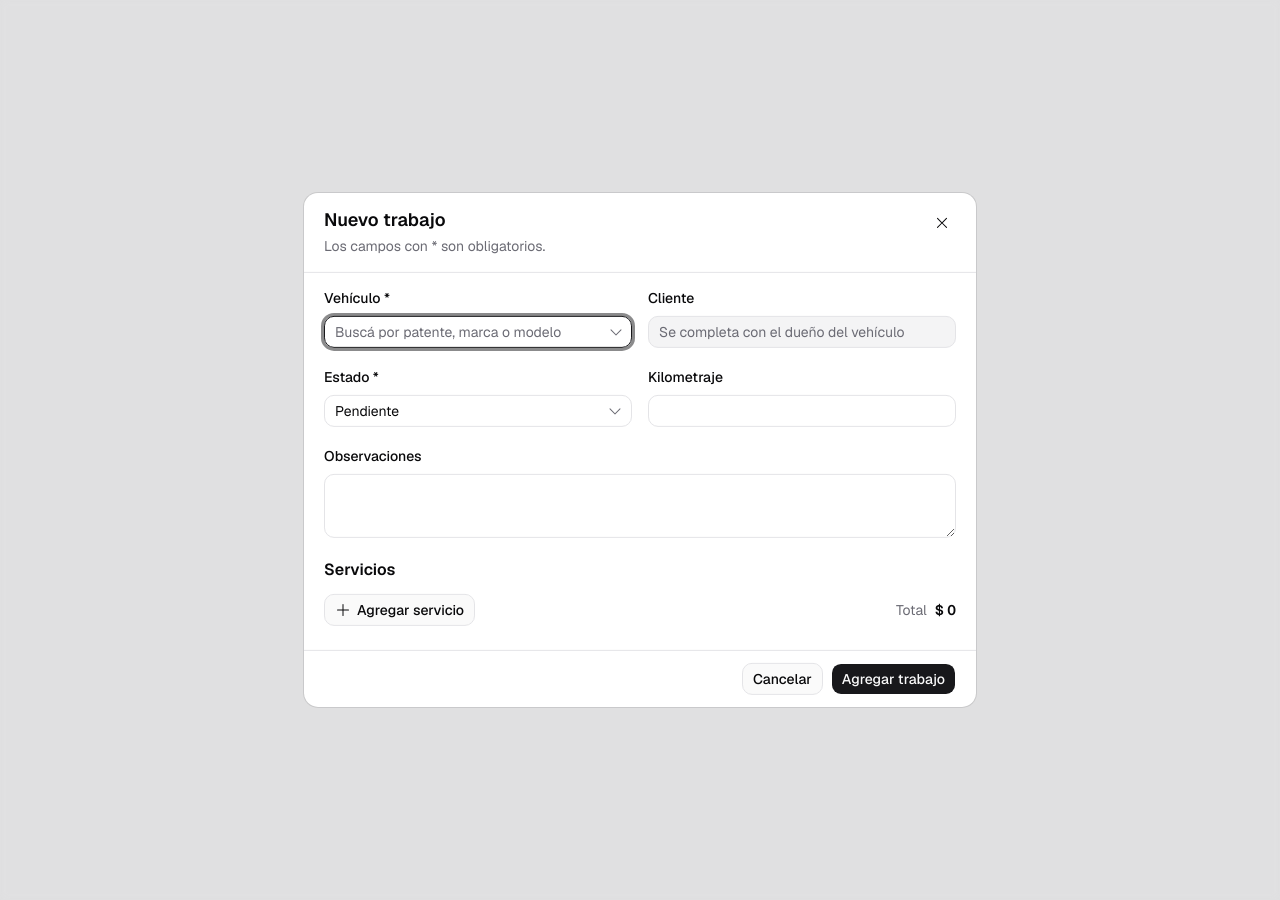
Test: new job form › vehicle › rejects text that matches no vehicle
The width and height of the screenshot is (1280, 900).
Step 1. Type "zzz" into the dropdown labelled "Vehículo *" → (464, 332), box [325, 316, 604, 348]
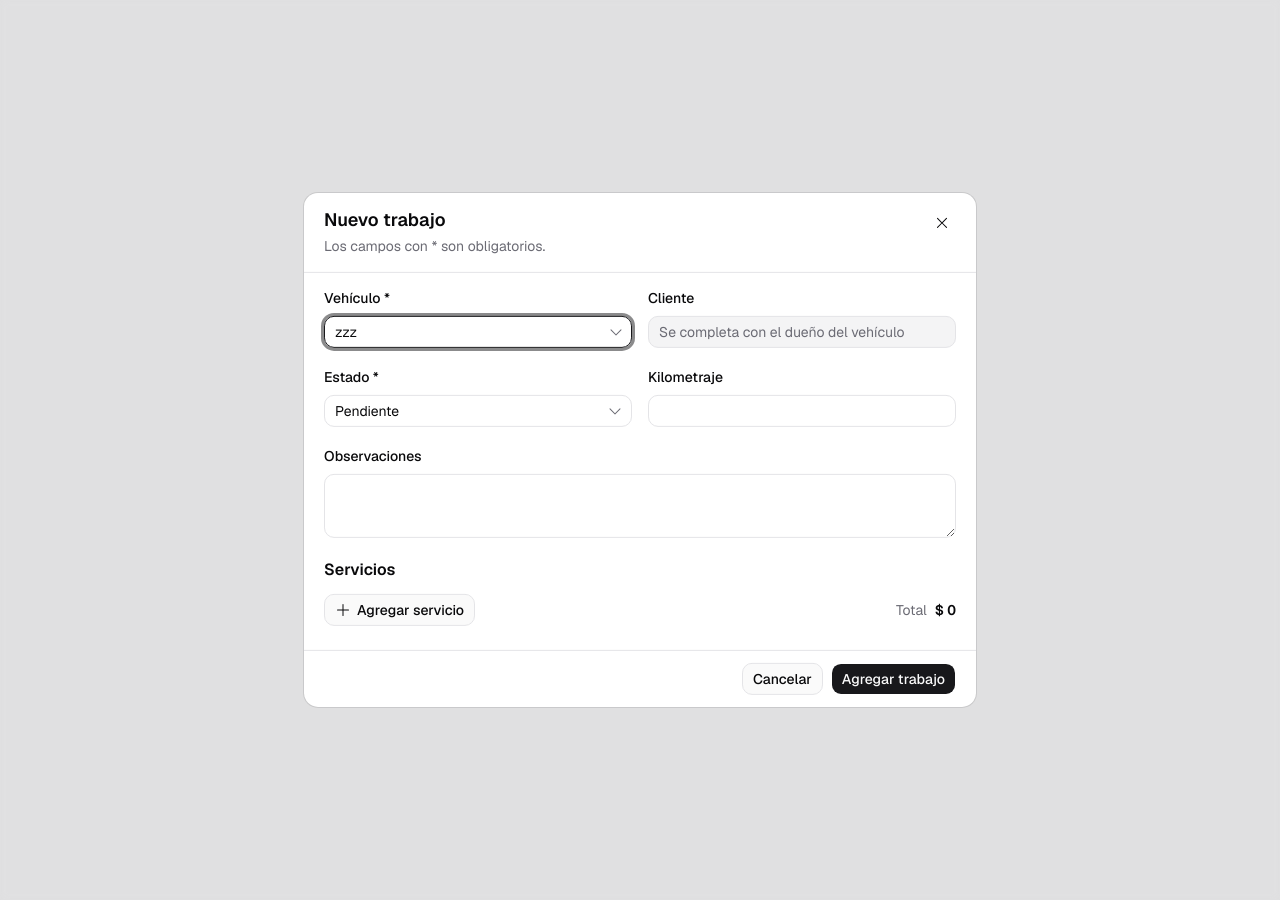
Step 2. Press Escape in the dropdown labelled "Vehículo *", box [325, 316, 604, 348]
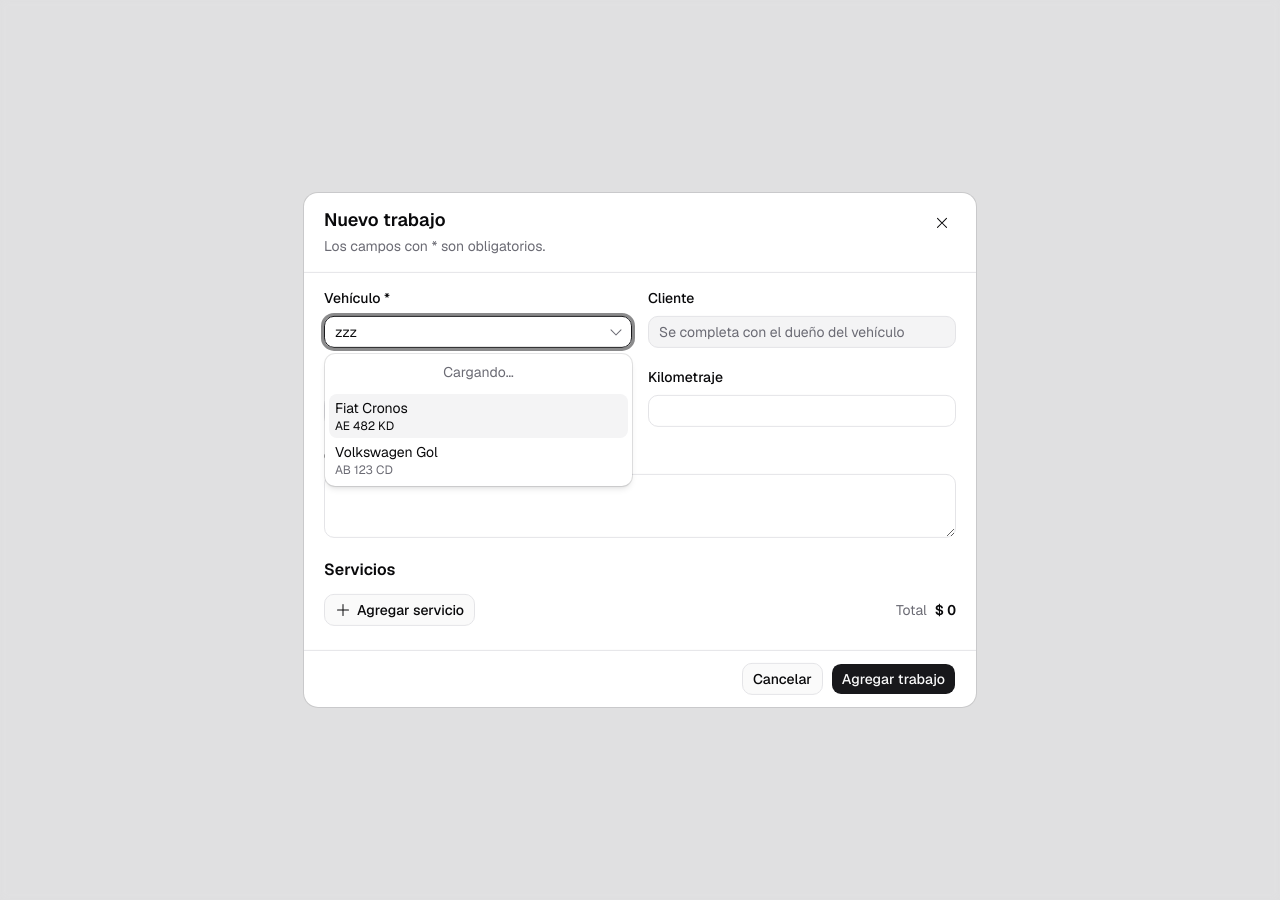
Step 3. Click the button "Agregar trabajo" → (893, 679), box [831, 663, 956, 695]
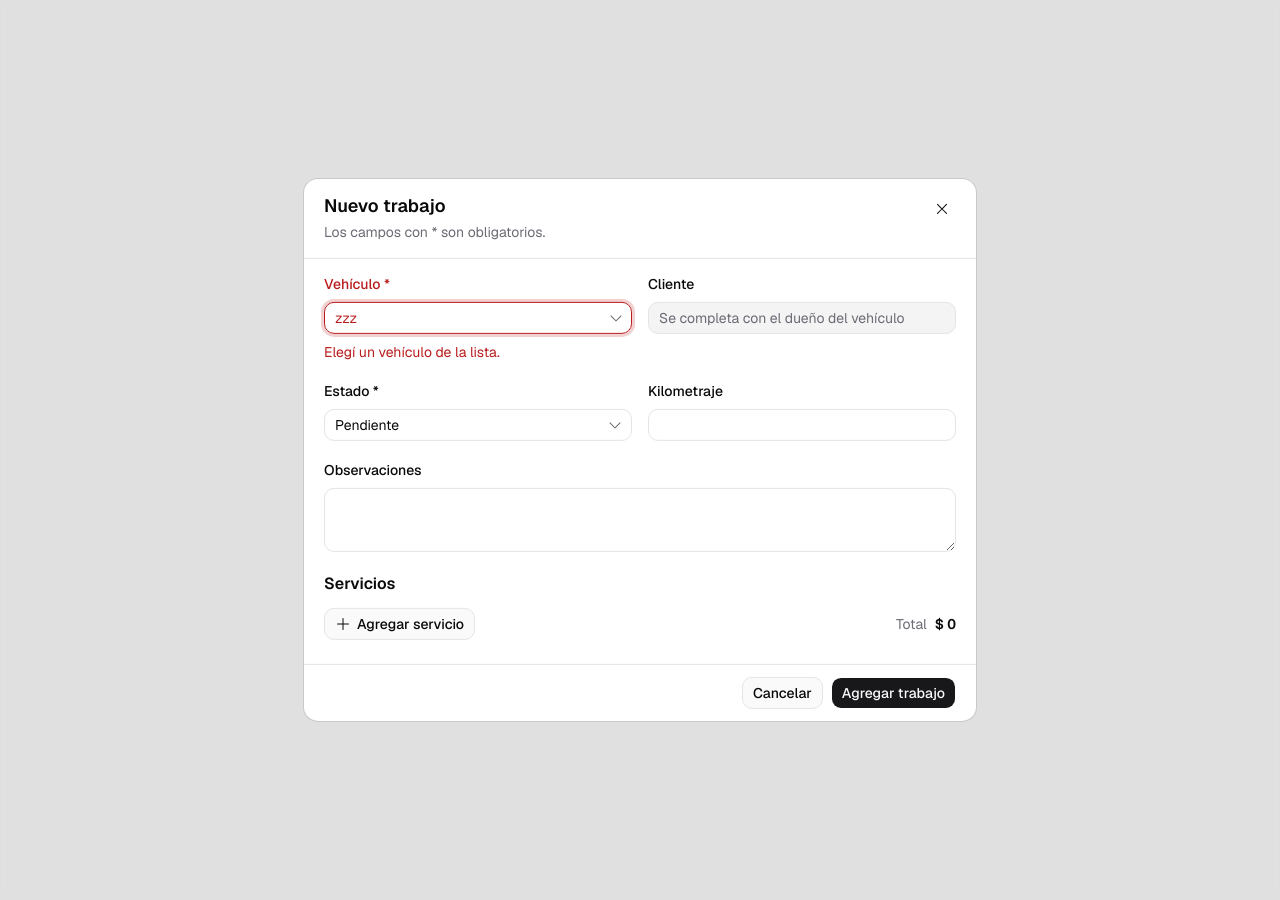
expect the text "Elegí un vehículo de la lista." is shown: met, box [324, 343, 500, 361]
